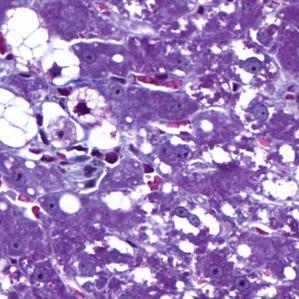ballooning: (4, 8, 85, 90), (1, 86, 43, 148), (67, 85, 109, 128)
